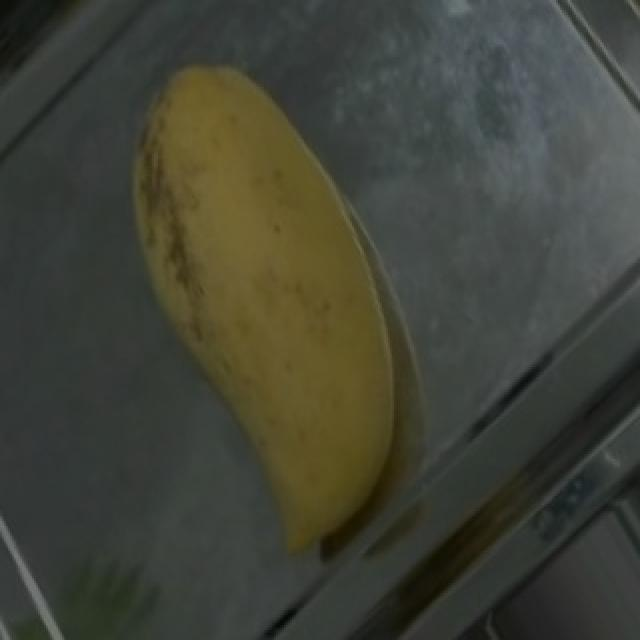fruit: (110, 30, 450, 486)
